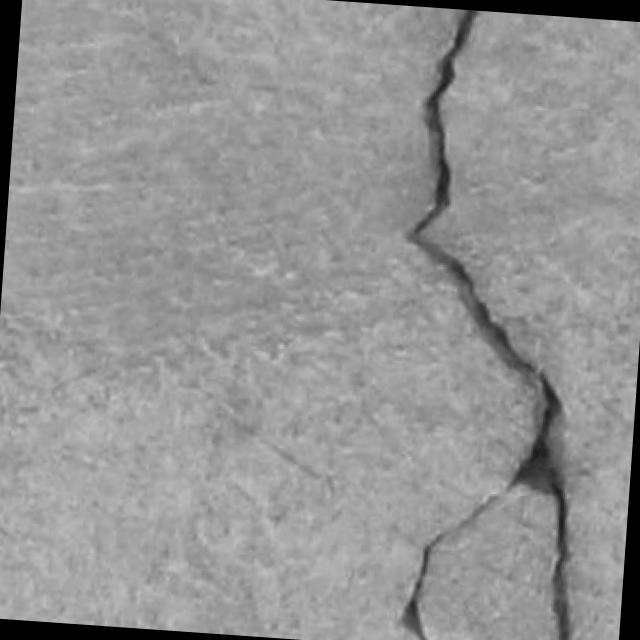crack: (402, 10, 570, 639)
